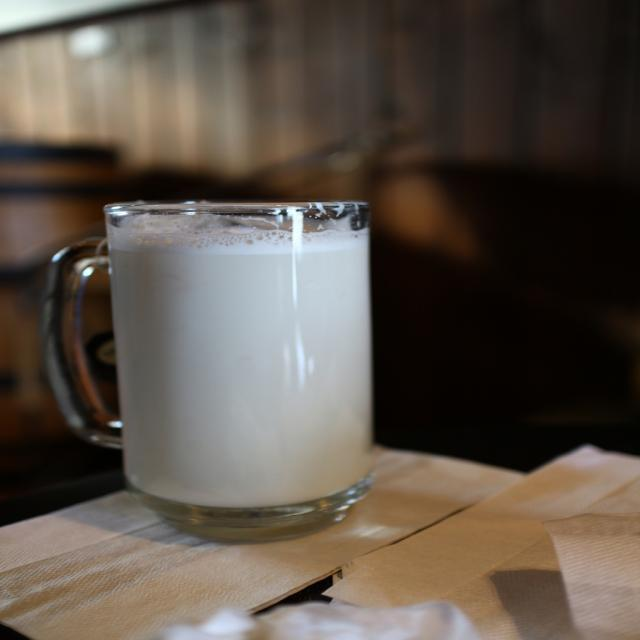Milk: (109, 231, 373, 511)
